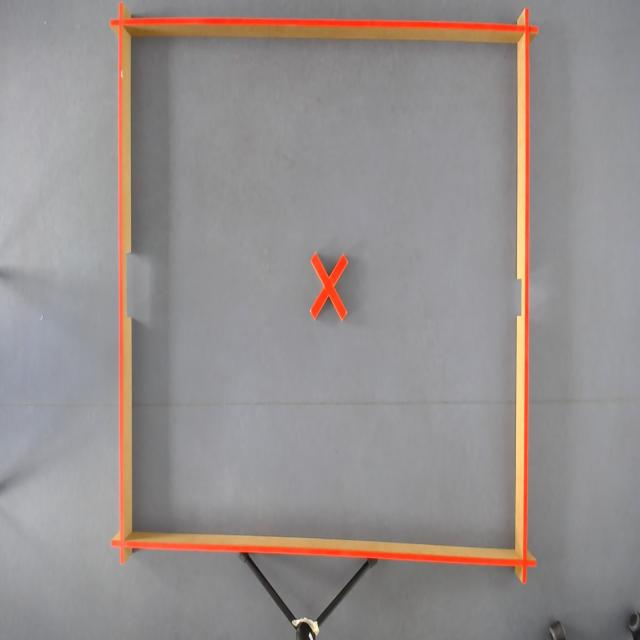cross: (308, 250, 349, 321)
